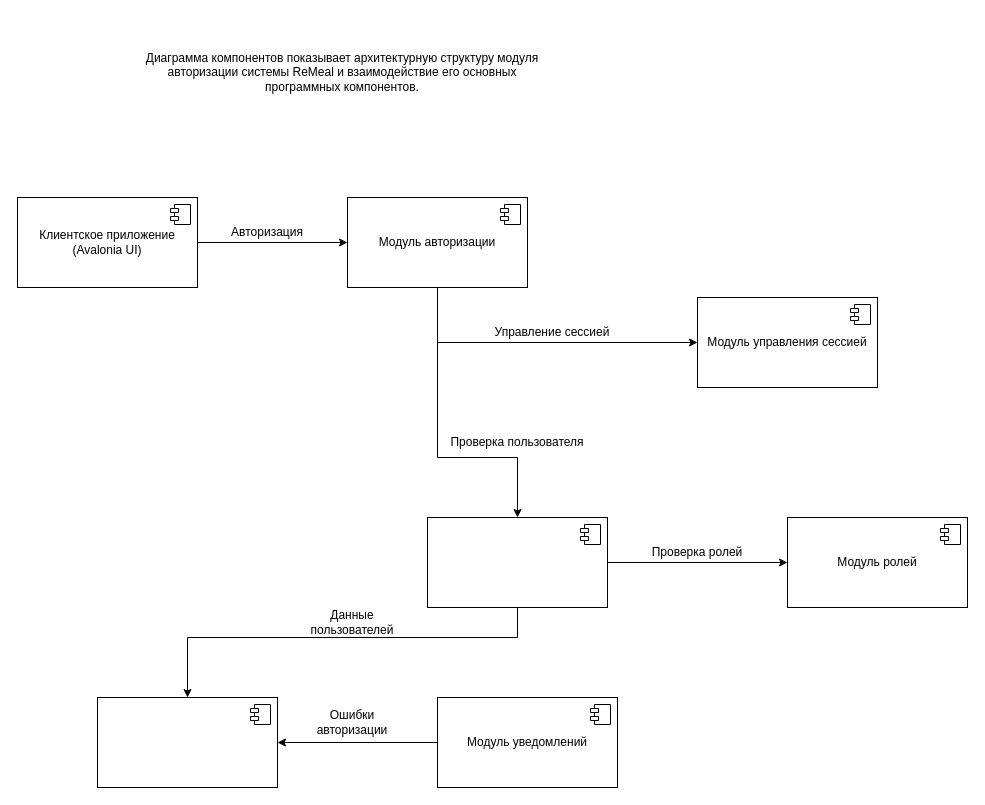
Some shapes in this 985 by 805 pixel diagram are drawn without their labels. Each missing label, with the centre of its shape:
База данных ReMeal remeal.db: the point at 187,742
Модуль управления пользователями: the point at 517,562
